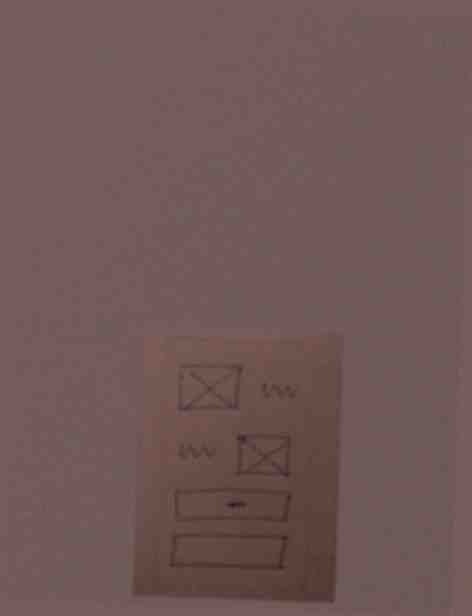button: (172, 486, 297, 528)
image: (173, 357, 247, 417), (230, 431, 295, 481)
text: (256, 375, 303, 407), (177, 439, 219, 464)
text_input: (165, 530, 294, 576)
